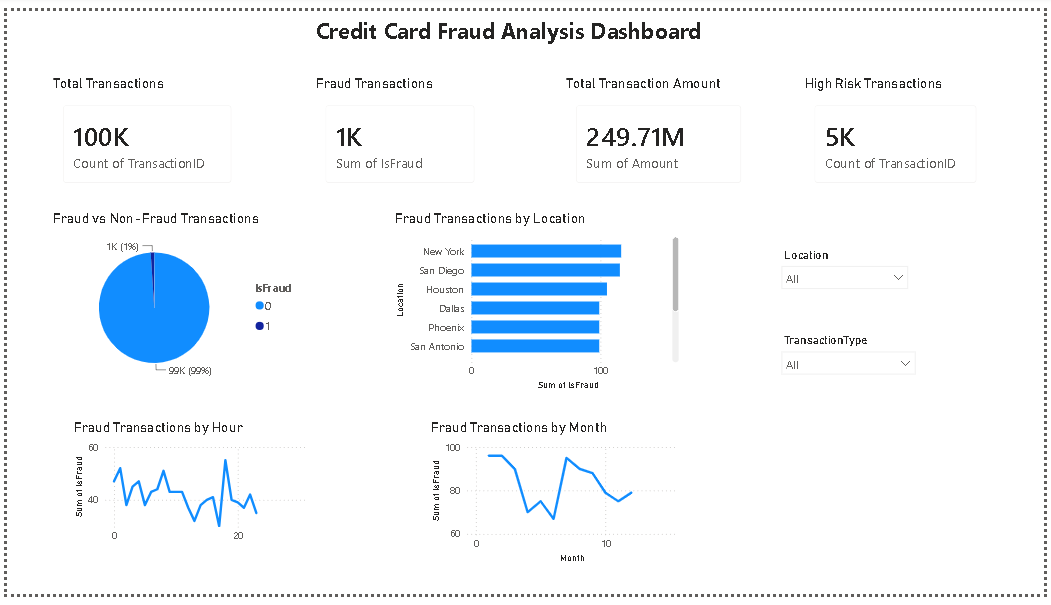

This screenshot's page, from the dashboard's own definition file:
{"tool":"powerbi","page":{"name":"Page 1","canvas":[1280,720],"ordinal":0},"visuals":[{"type":"cardVisual","title":"Fraud Transactions","fields":{"Data":["Sum(credit_card_fraud_cleaned.IsFraud)"]},"box":[376,80,218,150],"z":0},{"type":"cardVisual","title":"Total Transaction Amount","fields":{"Data":["Sum(credit_card_fraud_cleaned.Amount)"]},"box":[686,80,238,150],"z":1000},{"type":"cardVisual","title":"High Risk Transactions","fields":{"Data":["CountNonNull(credit_card_fraud_cleaned.TransactionID)"]},"box":[980,80,234,150],"z":3000},{"type":"pieChart","title":"Fraud vs Non-Fraud Transactions","fields":{"Y":["CountNonNull(credit_card_fraud_cleaned.TransactionID)"],"Category":["credit_card_fraud_cleaned.IsFraud"]},"box":[52,246,324,220],"z":4000},{"type":"clusteredBarChart","title":"Fraud Transactions by Location","fields":{"Category":["credit_card_fraud_cleaned.Location"],"Y":["Sum(credit_card_fraud_cleaned.IsFraud)"]},"box":[474,246,360,226],"z":5000},{"type":"lineChart","title":"Fraud Transactions by Hour","fields":{"Category":["credit_card_fraud_cleaned.Hour"],"Y":["Sum(credit_card_fraud_cleaned.IsFraud)"]},"box":[77.8,503.7,298.1,163],"z":6000},{"type":"slicer","title":"Fraud Transactions by Transaction Type","fields":{"Values":["credit_card_fraud_cleaned.Location"]},"box":[946.2,287.5,176.2,82.5],"z":6001},{"type":"cardVisual","title":"Total Transactions","fields":{"Data":["CountNonNull(credit_card_fraud_cleaned.TransactionID)"]},"box":[52,80,242,150],"z":6002},{"type":"slicer","fields":{"Values":["credit_card_fraud_cleaned.TransactionType"]},"box":[946.2,392.5,185,97.5],"z":6003},{"type":"textbox","box":[376.2,0,527.5,66.2],"z":6004},{"type":"lineChart","title":"Fraud Transactions by Month","fields":{"Category":["credit_card_fraud_cleaned.Month"],"Y":["Sum(credit_card_fraud_cleaned.IsFraud)"]},"box":[518.5,503.7,314.8,181.5],"z":6005}]}

Visuals, with their boxes in screenshot pixels (x1, y1, x2, y2), scaled from the page's 1280x720 canvas onto the 1051x605 screenshot:
"Fraud Transactions" cardVisual: [x1=309, y1=67, x2=488, y2=193]
"Total Transaction Amount" cardVisual: [x1=563, y1=67, x2=759, y2=193]
"High Risk Transactions" cardVisual: [x1=805, y1=67, x2=997, y2=193]
"Fraud vs Non-Fraud Transactions" pieChart: [x1=43, y1=207, x2=309, y2=392]
"Fraud Transactions by Location" clusteredBarChart: [x1=389, y1=207, x2=685, y2=397]
"Fraud Transactions by Hour" lineChart: [x1=64, y1=423, x2=309, y2=560]
"Fraud Transactions by Transaction Type" slicer: [x1=777, y1=242, x2=922, y2=311]
"Total Transactions" cardVisual: [x1=43, y1=67, x2=241, y2=193]
slicer - credit_card_fraud_cleaned.TransactionType: [x1=777, y1=330, x2=929, y2=412]
textbox: [x1=309, y1=0, x2=742, y2=56]
"Fraud Transactions by Month" lineChart: [x1=426, y1=423, x2=684, y2=576]
